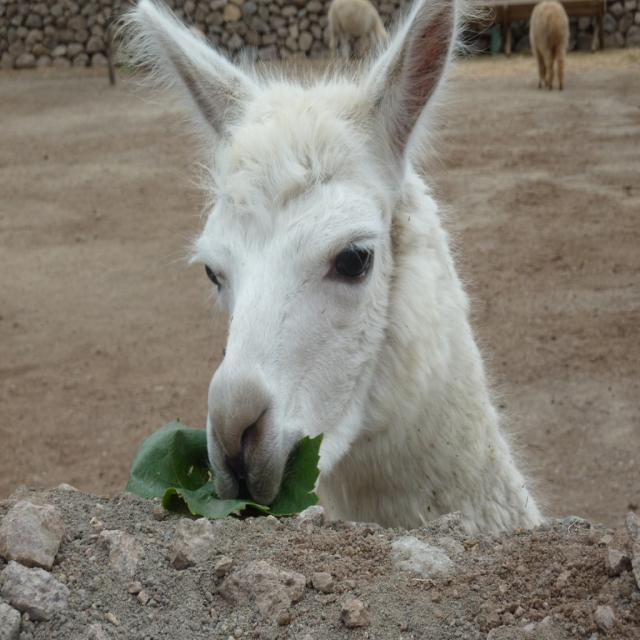alpaca: (112, 0, 546, 540), (524, 0, 578, 93)
